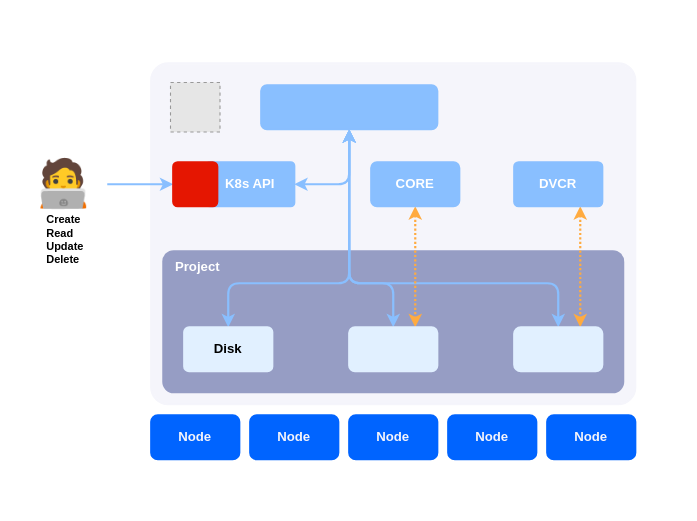
Image size: 697x521. Some labels were removed from this diagram. Grey dashed boxes stand in for pictures. The centre of each missing label's shape, as x and y in pixels:
"Image" belongs at point (558, 349).
"RBAC" belongs at point (195, 184).
"Virtualization API" belongs at point (349, 107).
"VM" belongs at point (393, 349).
